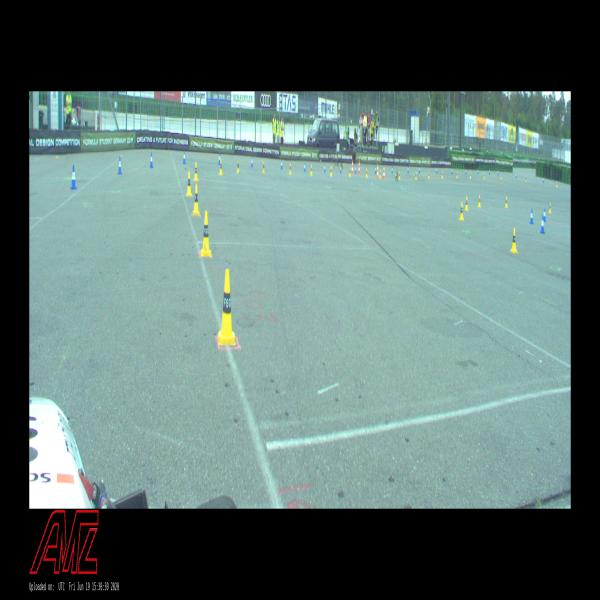blue_cone: (70, 165, 77, 190), (118, 156, 123, 175), (540, 215, 545, 234), (150, 152, 154, 168), (530, 209, 534, 224), (183, 150, 186, 164), (218, 153, 221, 165), (544, 208, 546, 222), (354, 165, 357, 173), (374, 166, 377, 174), (251, 156, 253, 167), (280, 159, 282, 170), (304, 162, 306, 172), (324, 164, 326, 172)
large_orange_cone: (376, 164, 379, 178), (351, 160, 354, 173), (383, 165, 385, 179), (358, 160, 360, 173)
yellow_cone: (218, 269, 236, 345), (201, 211, 211, 257), (193, 184, 200, 216), (510, 228, 518, 253), (186, 171, 192, 196), (459, 202, 464, 221), (194, 162, 198, 181), (219, 159, 223, 175), (464, 195, 468, 210), (236, 160, 240, 173), (289, 163, 292, 175), (505, 197, 508, 208), (263, 161, 265, 174), (310, 164, 312, 176), (398, 171, 401, 179), (478, 195, 480, 207), (549, 202, 551, 213), (330, 166, 332, 176), (349, 167, 351, 177), (366, 168, 368, 178), (379, 170, 381, 178), (415, 172, 417, 180), (428, 172, 429, 179)
